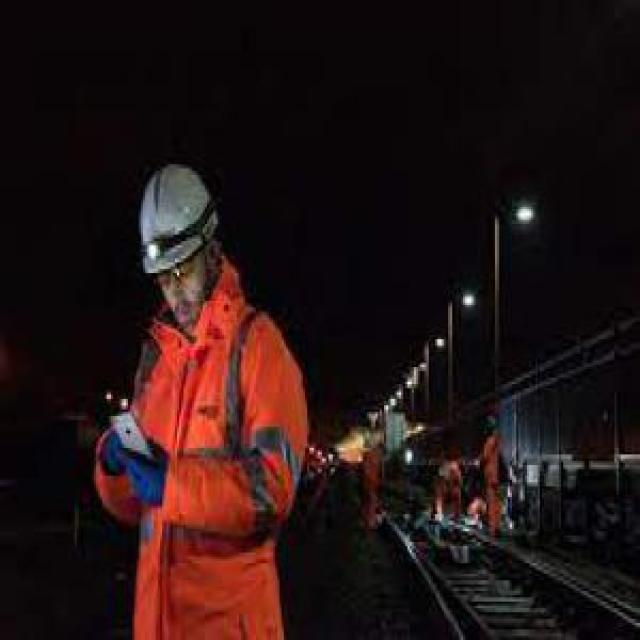rail: (348, 465, 640, 639)
